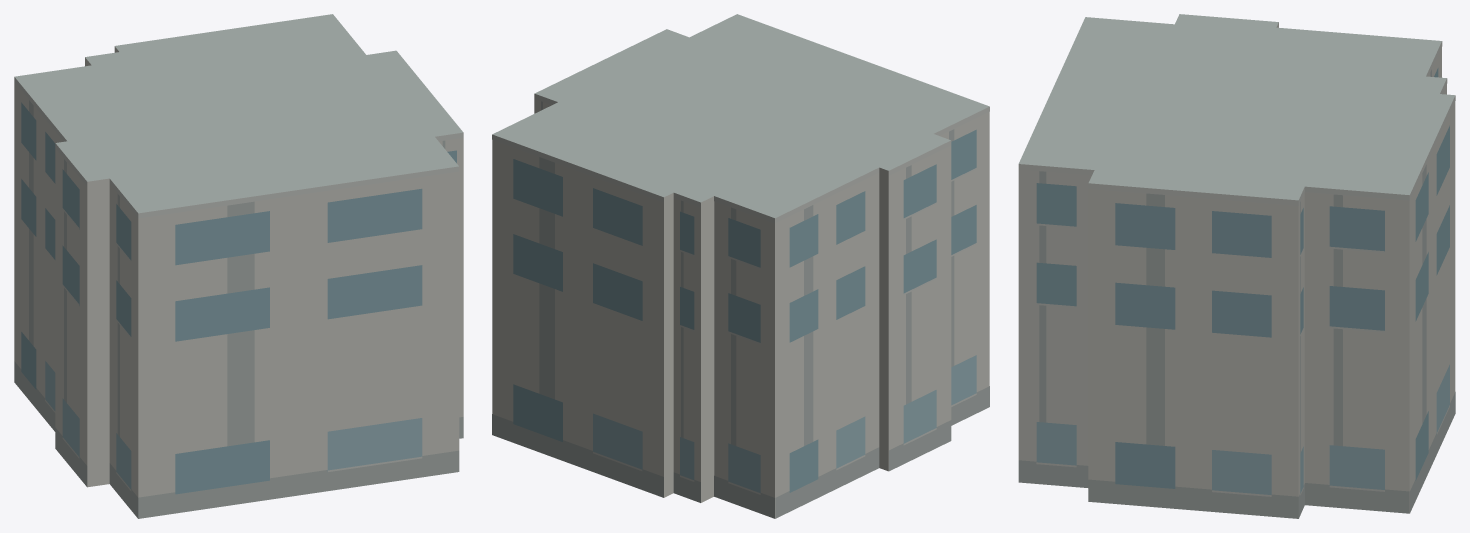
The model's file is residential-1f6a1d63-a8a4-46f8-a684-e131a7556e9c.glb.
The picture shows the model from 3 angles, left to right: view 1: azimuth 30°, elevation 25°; view 2: azimuth 150°, elevation 25°; view 3: azimuth 270°, elevation 25°; orthographic projection. The views are drawn at different scales.
Visible parts, largest first — view 1: residential-1f6a1d63-a8a4-46f8-a684-e131a7556e9c.tmp; view 2: residential-1f6a1d63-a8a4-46f8-a684-e131a7556e9c.tmp; view 3: residential-1f6a1d63-a8a4-46f8-a684-e131a7556e9c.tmp.
Boxes of the visible parts, <box> form: residential-1f6a1d63-a8a4-46f8-a684-e131a7556e9c.tmp: <box>14,14,463,518</box>; residential-1f6a1d63-a8a4-46f8-a684-e131a7556e9c.tmp: <box>492,14,989,518</box>; residential-1f6a1d63-a8a4-46f8-a684-e131a7556e9c.tmp: <box>1018,14,1455,518</box>.
Bounding box in the file's own units: 17.64 × 14.05 × 17.48.
